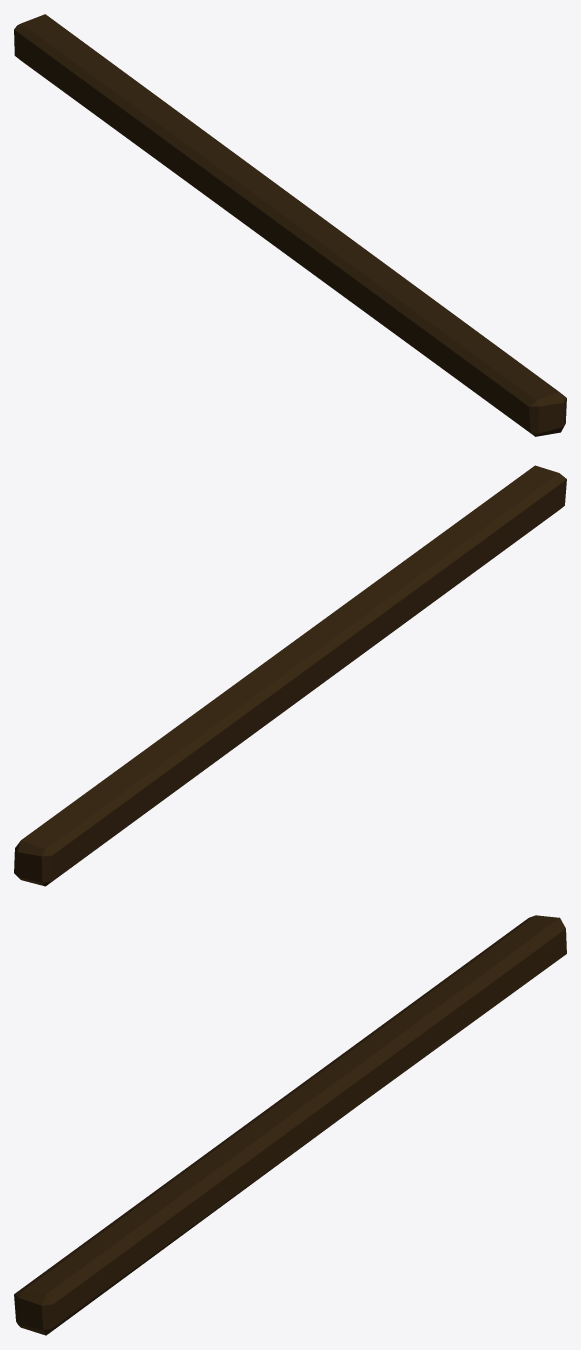
File: 3D_BUILD_BALK1.FBX
3 renders of one model, top to bottom at view 1: azimuth 30°, elevation 25°; view 2: azimuth 150°, elevation 25°; view 3: azimuth 330°, elevation 25°, orthographic.
Parts seen in each view (by area): view 1: 3D_BUILD_BALK1; view 2: 3D_BUILD_BALK1; view 3: 3D_BUILD_BALK1.
Part boxes in pixels (x1=…): 3D_BUILD_BALK1: x1=14, y1=14, x2=566, y2=436; 3D_BUILD_BALK1: x1=14, y1=465, x2=566, y2=886; 3D_BUILD_BALK1: x1=14, y1=915, x2=566, y2=1335.
Bounding box in the file's own units: 28.31 × 28.98 × 663.
